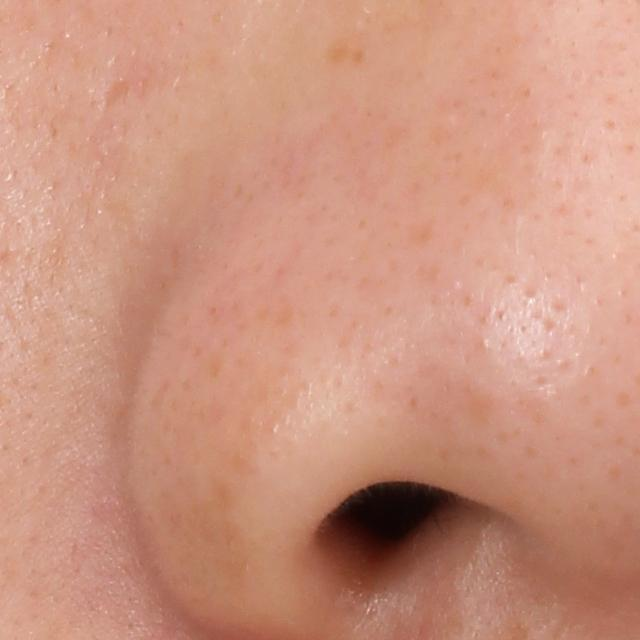atrophic_scar: (89, 72, 135, 113)
melasma: (319, 35, 374, 73)
